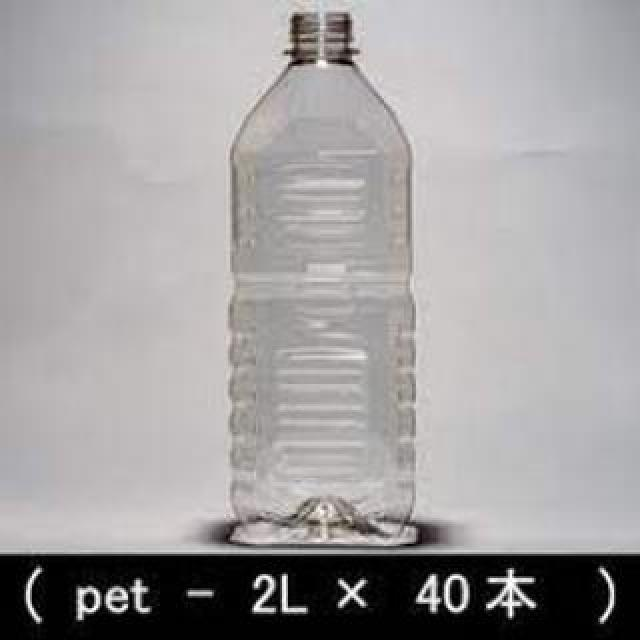Pet_Bottle: (218, 9, 422, 547)
